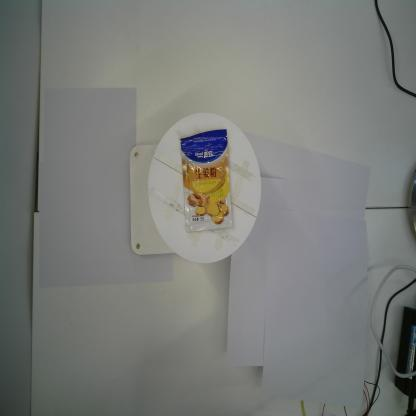Seasoner: (180, 128, 233, 233)
